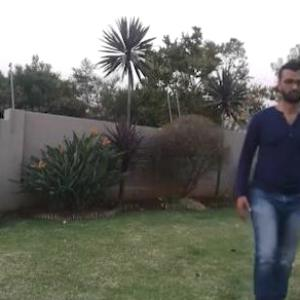follow: (239, 71, 299, 299)
